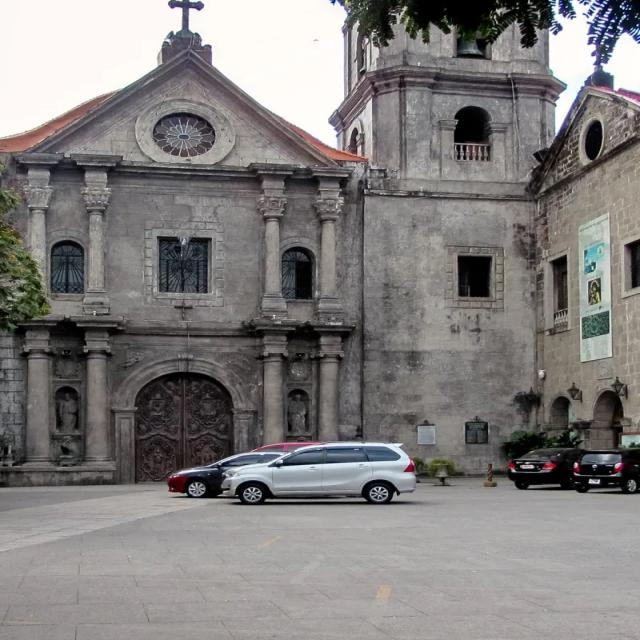San Agustin Church: (1, 2, 552, 494)
